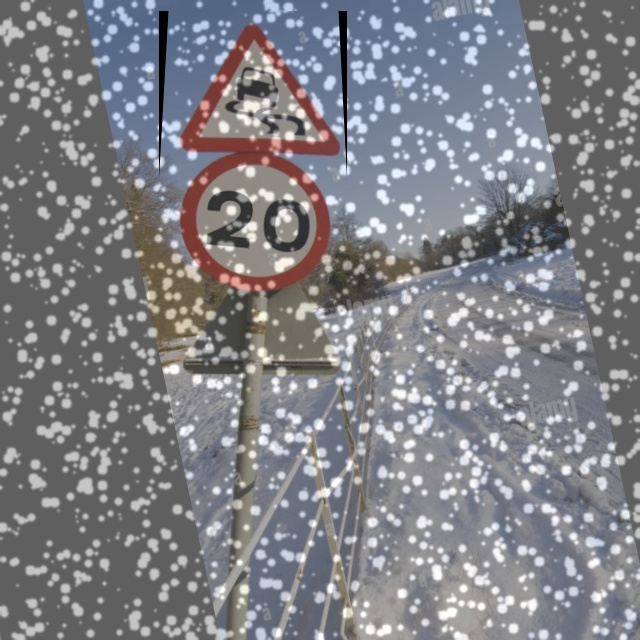Slippery_Road: (159, 11, 347, 179)
